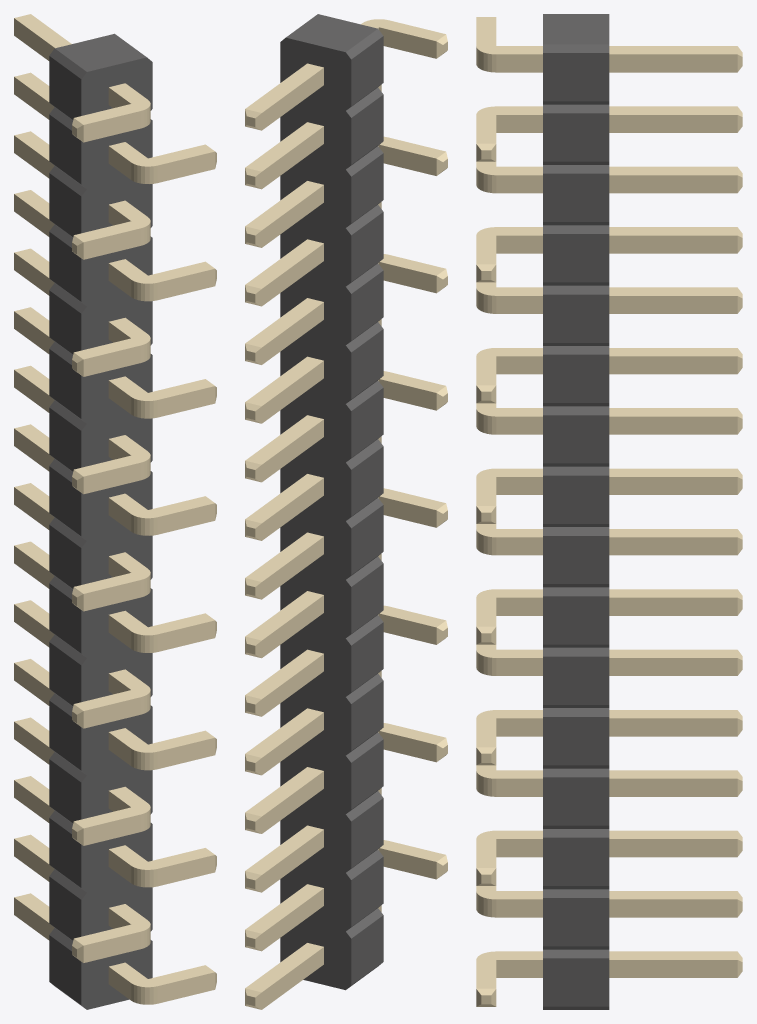
Rendered from PinHeader_1x16_P1.00mm_Vertical_SMD_Pin1Right.glb.
The picture shows the model from 3 angles, left to right: view 1: azimuth 30°, elevation 25°; view 2: azimuth 150°, elevation 25°; view 3: azimuth 270°, elevation 25°; orthographic projection. The views are drawn at different scales.
Parts seen in each view (by area): view 1: Shape_IndexedFaceSet.003, Shape_IndexedFaceSet.001, Shape_IndexedFaceSet.025, Shape_IndexedFaceSet.073, Shape_IndexedFaceSet.013, Shape_IndexedFaceSet.037, Shape_IndexedFaceSet.061, Shape_IndexedFaceSet.049, Shape_IndexedFaceSet.085, Shape_IndexedFaceSet.097, Shape_IndexedFaceSet.079, Shape_IndexedFaceSet.007 (+78 smaller); view 2: Shape_IndexedFaceSet.004, Shape_IndexedFaceSet.001, Shape_IndexedFaceSet.049, Shape_IndexedFaceSet.079, Shape_IndexedFaceSet.007, Shape_IndexedFaceSet.013, Shape_IndexedFaceSet.025, Shape_IndexedFaceSet.031, Shape_IndexedFaceSet.037, Shape_IndexedFaceSet.043, Shape_IndexedFaceSet.055, Shape_IndexedFaceSet.061 (+54 smaller); view 3: Shape_IndexedFaceSet.010, Shape_IndexedFaceSet.058, Shape_IndexedFaceSet.076, Shape_IndexedFaceSet.094, Shape_IndexedFaceSet.002, Shape_IndexedFaceSet.016, Shape_IndexedFaceSet.022, Shape_IndexedFaceSet.028, Shape_IndexedFaceSet.034, Shape_IndexedFaceSet.040, Shape_IndexedFaceSet.046, Shape_IndexedFaceSet.064 (+77 smaller).
Boxes of the visible parts, x1,y1,x2,y2 form: Shape_IndexedFaceSet.003: [81, 57, 152, 1009]; Shape_IndexedFaceSet.001: [55, 33, 146, 71]; Shape_IndexedFaceSet.025: [49, 232, 81, 301]; Shape_IndexedFaceSet.073: [49, 701, 81, 770]; Shape_IndexedFaceSet.013: [49, 114, 81, 184]; Shape_IndexedFaceSet.037: [49, 349, 81, 418]; Shape_IndexedFaceSet.061: [49, 583, 81, 653]; Shape_IndexedFaceSet.049: [49, 466, 81, 535]; Shape_IndexedFaceSet.085: [49, 818, 81, 887]; Shape_IndexedFaceSet.097: [49, 935, 81, 1004]; Shape_IndexedFaceSet.079: [49, 759, 81, 823]; Shape_IndexedFaceSet.007: [49, 56, 81, 119]; Shape_IndexedFaceSet.004: [280, 37, 351, 990]; Shape_IndexedFaceSet.001: [286, 14, 377, 52]; Shape_IndexedFaceSet.049: [351, 446, 383, 516]; Shape_IndexedFaceSet.079: [351, 739, 383, 809]; Shape_IndexedFaceSet.007: [351, 36, 383, 105]; Shape_IndexedFaceSet.013: [351, 94, 383, 164]; Shape_IndexedFaceSet.025: [351, 212, 383, 281]; Shape_IndexedFaceSet.031: [351, 270, 383, 340]; Shape_IndexedFaceSet.037: [351, 329, 383, 398]; Shape_IndexedFaceSet.043: [351, 388, 383, 457]; Shape_IndexedFaceSet.055: [351, 505, 383, 574]; Shape_IndexedFaceSet.061: [351, 563, 383, 633]; Shape_IndexedFaceSet.010: [543, 113, 609, 161]; Shape_IndexedFaceSet.058: [543, 596, 609, 644]; Shape_IndexedFaceSet.076: [543, 777, 609, 825]; Shape_IndexedFaceSet.094: [543, 958, 609, 1006]; Shape_IndexedFaceSet.002: [543, 53, 609, 101]; Shape_IndexedFaceSet.016: [543, 173, 609, 221]; Shape_IndexedFaceSet.022: [543, 234, 609, 282]; Shape_IndexedFaceSet.028: [543, 294, 609, 342]; Shape_IndexedFaceSet.034: [543, 354, 609, 402]; Shape_IndexedFaceSet.040: [543, 415, 609, 463]; Shape_IndexedFaceSet.046: [543, 475, 609, 523]; Shape_IndexedFaceSet.064: [543, 656, 609, 704].
Size of the model in its own units: 0.984 by 6.3 by 1.58.
